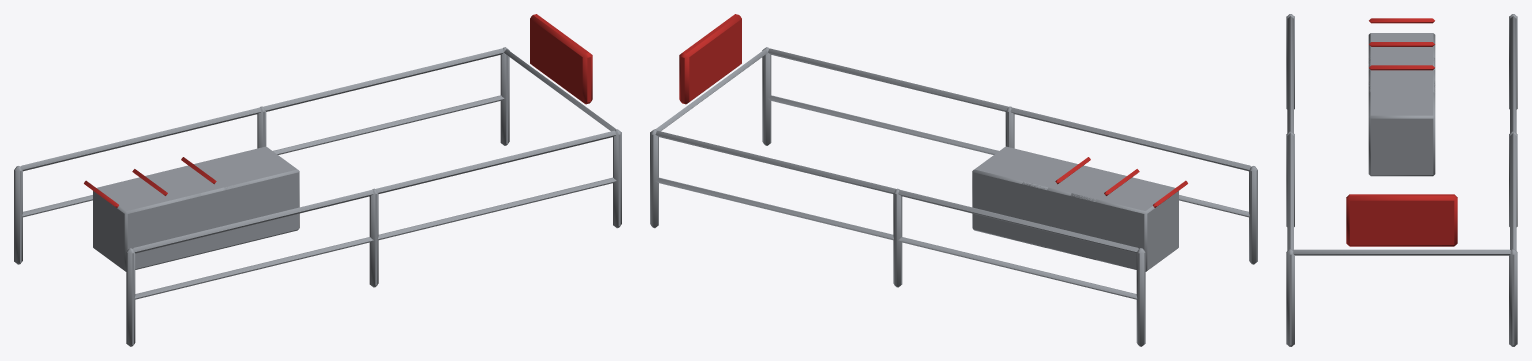
The model's file is Corral.fbx.
3 renders of one model, left to right at view 1: azimuth 30°, elevation 25°; view 2: azimuth 150°, elevation 25°; view 3: azimuth 270°, elevation 25°, orthographic.
Parts seen in each view (by area): view 1: Corral; view 2: Corral; view 3: Corral.
Part boxes in pixels (bbox=[...]): Corral: bbox=[14, 14, 621, 346]; Corral: bbox=[650, 14, 1257, 346]; Corral: bbox=[1286, 14, 1517, 346].
Size of the model in its own units: 5.09 by 1.5 by 2.08.
